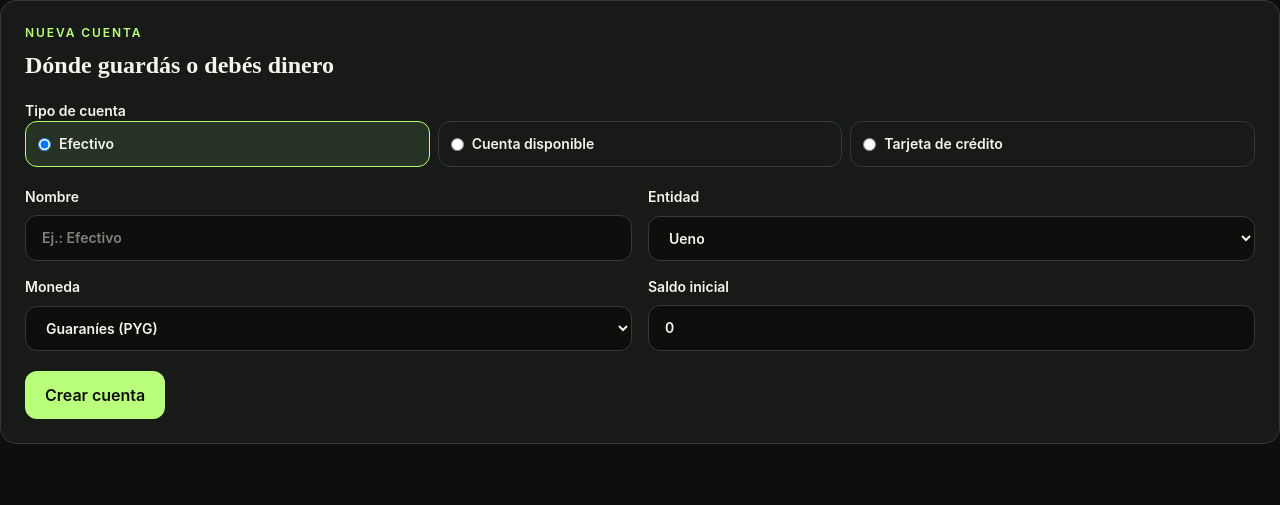
Test: AccountForm › inserts into the authenticated personal space only
The width and height of the screenshot is (1280, 505).
Type " Efectivo " into the field labelled "Nombre".
click(328, 238); type(" Efectivo ")  # box 25,215 -> 632,261
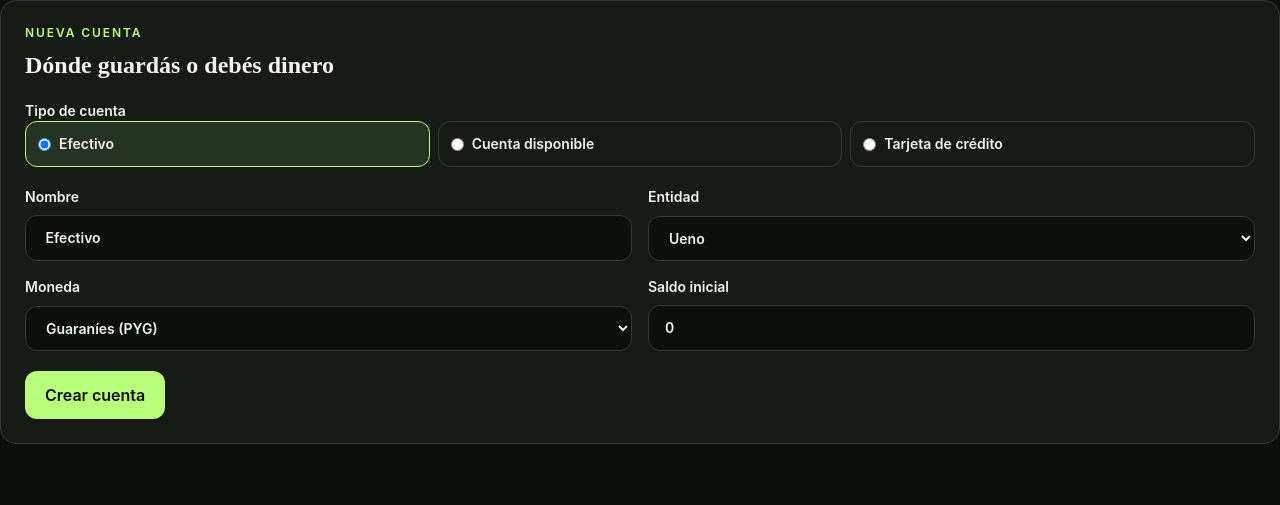
Replace the text in the field labelled "Saldo inicial" with "500000" at coordinates (952, 328), box 648,305 -> 1255,351
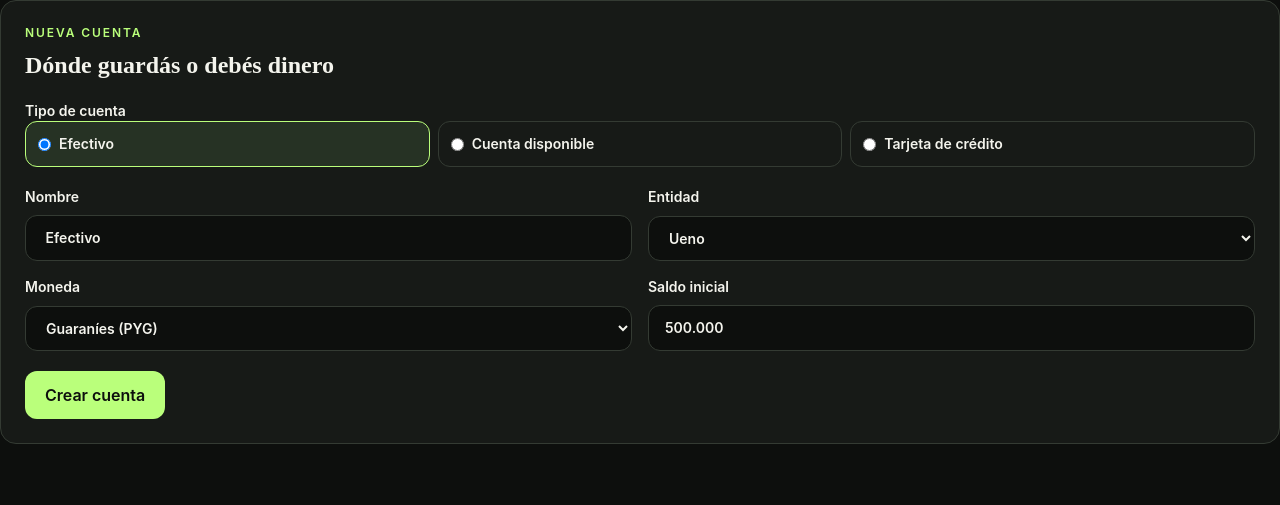
Expected: the field labelled "Saldo inicial" holds "500.000", 648,305 -> 1255,351
Submit the form named "Crear cuenta"
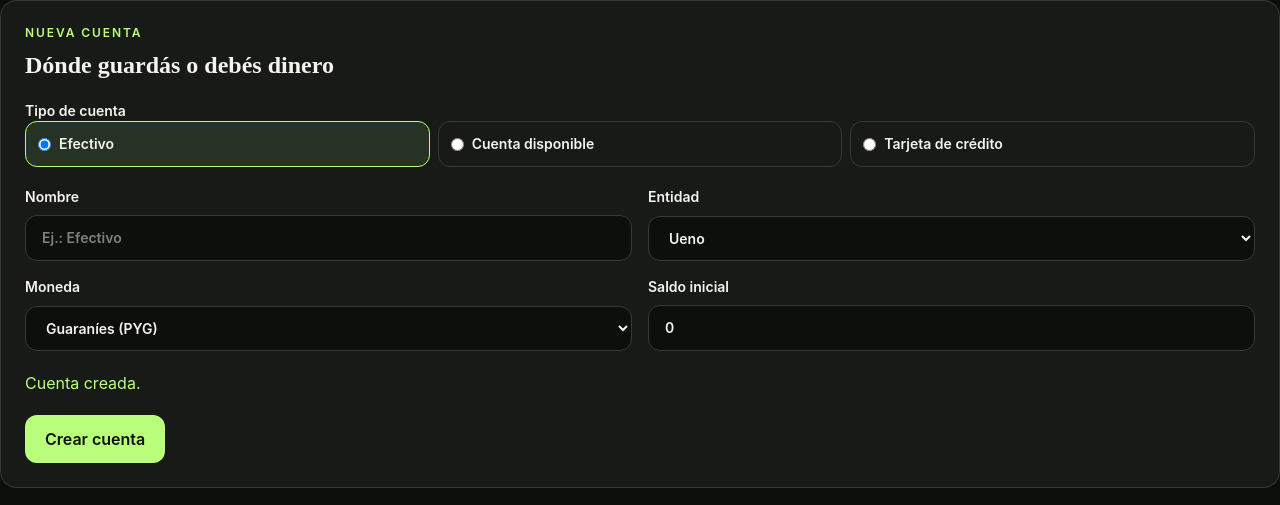
Expected: the text "Cuenta creada." is shown, 25,373 -> 140,393
